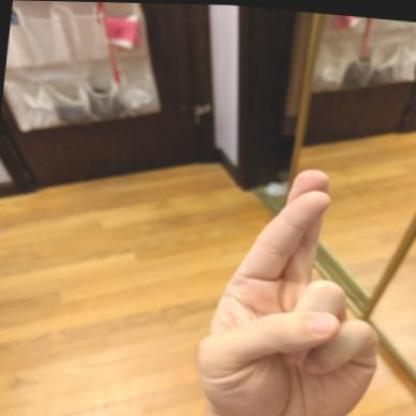R: (184, 154, 406, 415)
